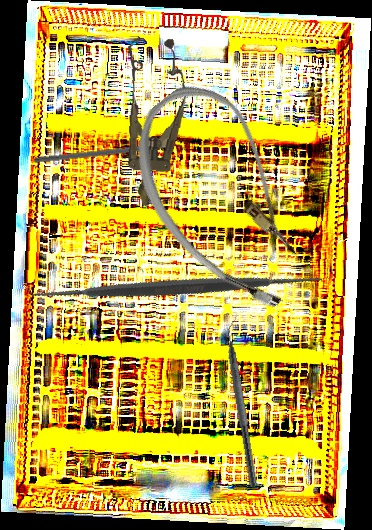Cannula: (102, 66, 349, 330)
Chopper: (219, 312, 270, 489), (33, 140, 190, 172)
Spatula Surgical: (21, 131, 332, 442)
Speculum: (111, 35, 193, 208)
